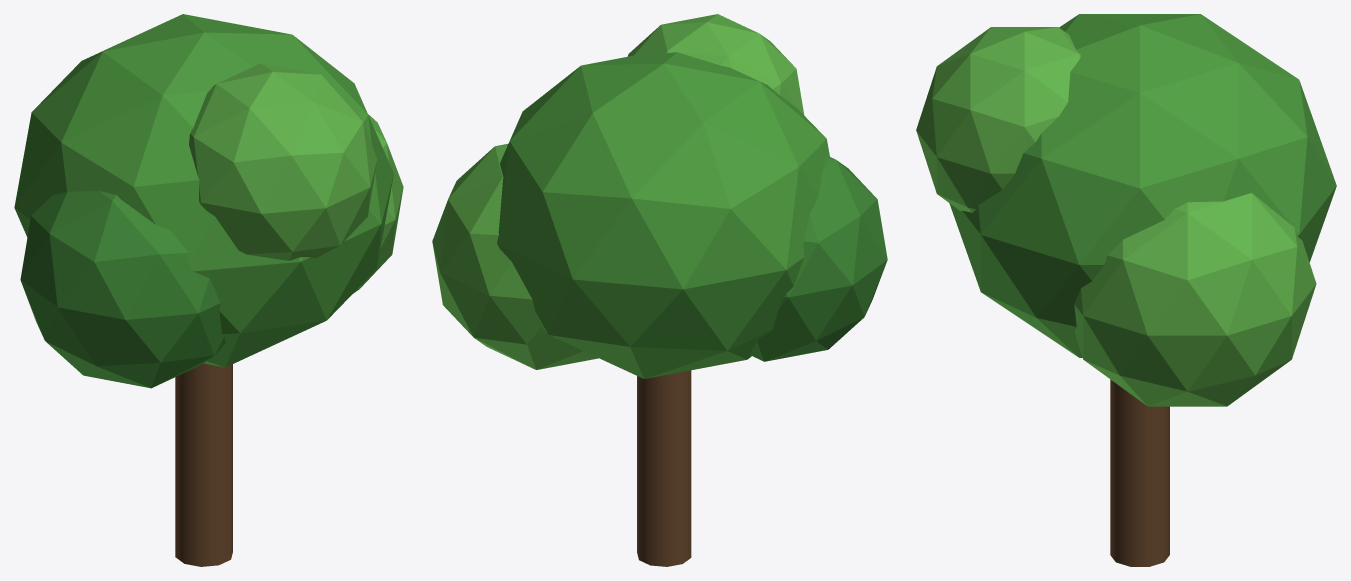
File: tree_round.glb
3 views of the same model, side by side, from view 1: azimuth 30°, elevation 25°; view 2: azimuth 150°, elevation 25°; view 3: azimuth 270°, elevation 25° (orthographic). The views are drawn at different scales.
Visible parts, largest first — view 1: Crown, Clump2, Clump3, Trunk, Clump1; view 2: Crown, Clump1, Clump2, Trunk, Clump3; view 3: Crown, Clump1, Clump3, Trunk.
Boxes of the visible parts, box(x1,y1,x2,y2) form: Crown: box(14, 14, 393, 367); Clump2: box(20, 191, 225, 388); Clump3: box(189, 63, 377, 260); Trunk: box(175, 363, 232, 566); Clump1: box(353, 114, 403, 293); Crown: box(497, 52, 829, 378); Clump1: box(432, 144, 598, 369); Clump2: box(749, 157, 887, 361); Trunk: box(637, 370, 691, 566); Clump3: box(627, 14, 804, 114); Crown: box(949, 14, 1336, 357); Clump1: box(1074, 193, 1316, 406); Clump3: box(916, 27, 1080, 212); Trunk: box(1110, 379, 1169, 566).
Size of what is drawn, in the model's own units: 3.41 by 4.31 by 3.1.
